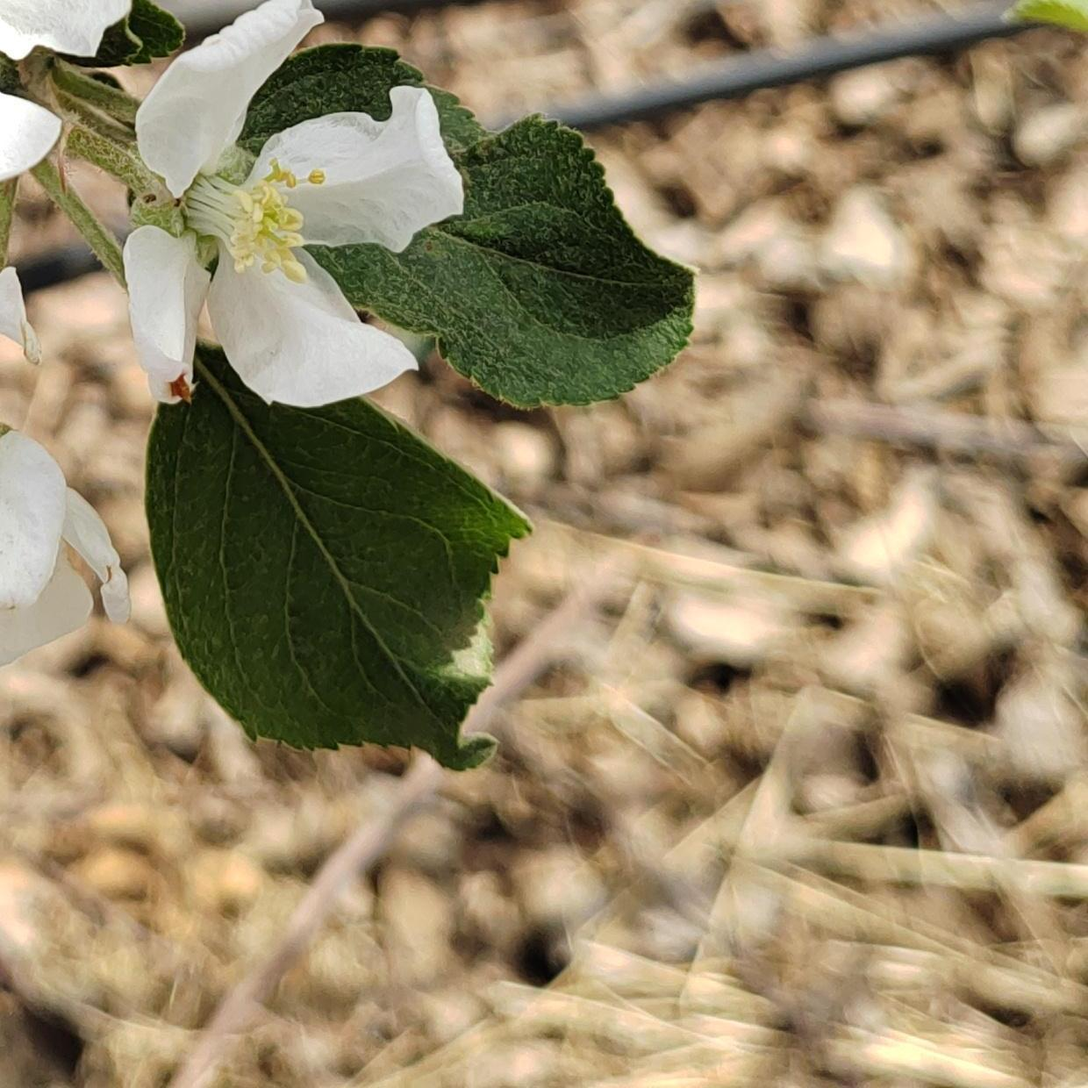apple_flower: (124, 0, 467, 407), (0, 496, 128, 670), (0, 432, 69, 614)
